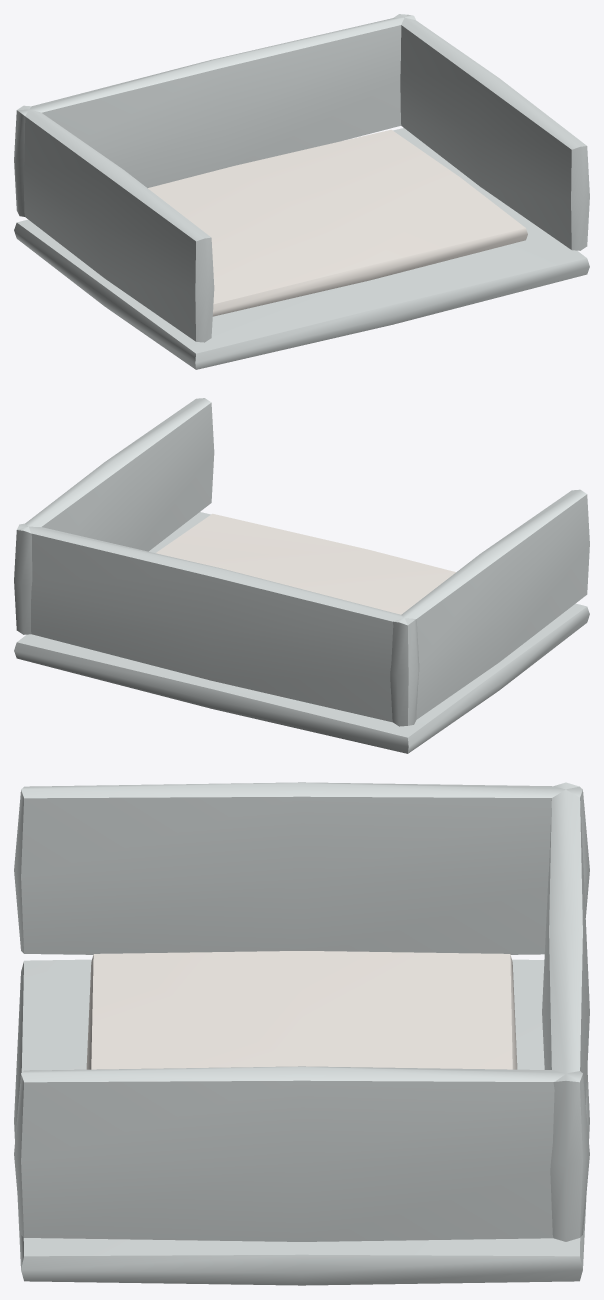
File: document-tray.glb
The picture shows the model from 3 angles, top to bottom: view 1: azimuth 30°, elevation 25°; view 2: azimuth 150°, elevation 25°; view 3: azimuth 270°, elevation 25°; orthographic projection. The views are drawn at different scales.
Visible parts, largest first — view 1: part (×5); view 2: part (×5); view 3: part (×5).
Part boxes in pixels (x1,y1,x2,y2): part (×5): (14,14,589,369); part (×5): (14,398,589,753); part (×5): (14,782,589,1285).
Size of the model in its own units: 0.3 by 0.1 by 0.24.
Materials: 1 (1 with a texture image).
